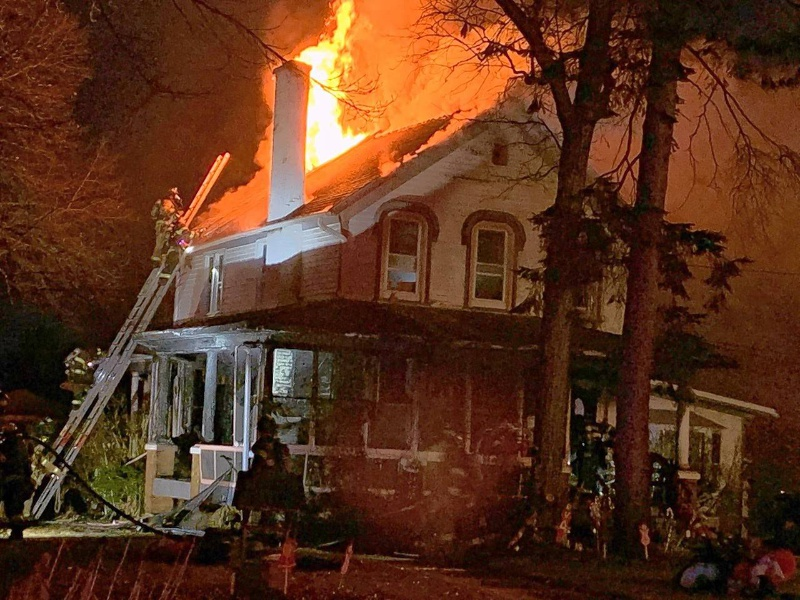fire: (266, 3, 382, 163)
